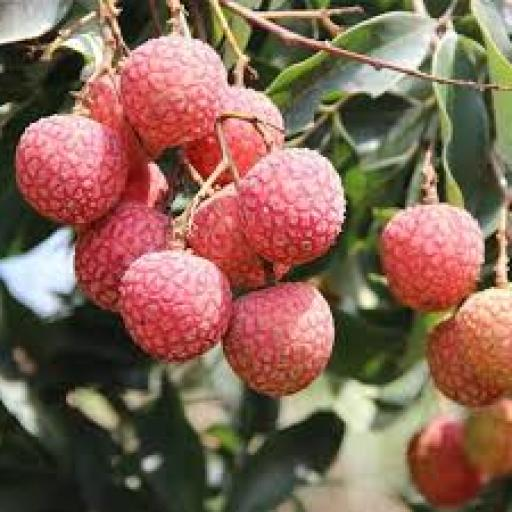lychee: (120, 35, 224, 157), (118, 251, 231, 361), (236, 148, 344, 263), (15, 114, 126, 225), (223, 285, 333, 395), (380, 203, 483, 311), (75, 203, 171, 309), (186, 187, 285, 288), (425, 319, 504, 407), (81, 73, 146, 179), (407, 419, 483, 507), (455, 289, 511, 389), (220, 87, 283, 175), (464, 399, 511, 475), (120, 162, 169, 209)
